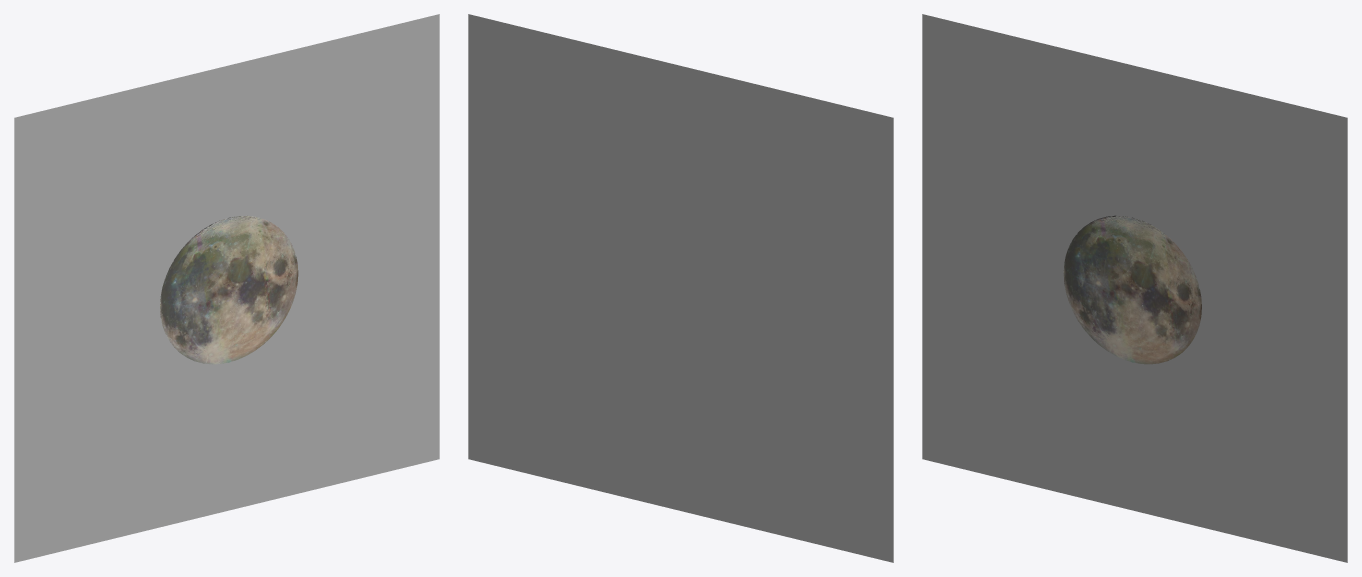
The model's file is hemellichaam.fbx.
3 renders of one model, left to right at view 1: azimuth 30°, elevation 25°; view 2: azimuth 150°, elevation 25°; view 3: azimuth 330°, elevation 25°, orthographic.
Parts seen in each view (by area): view 1: Mesh Object; view 2: Mesh Object; view 3: Mesh Object.
Part boxes in pixels (<box>): Mesh Object: <box>14,14,439,562</box>; Mesh Object: <box>468,14,893,562</box>; Mesh Object: <box>922,14,1347,562</box>.
Size of the model in its own units: 1107 by 1107 by 9.83.
